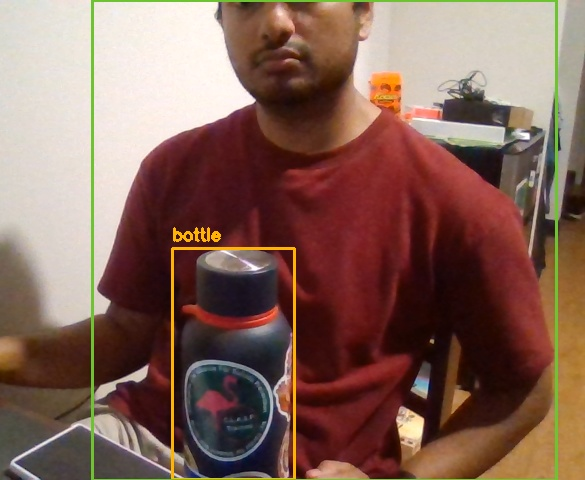bottle: (172, 248, 294, 479)
